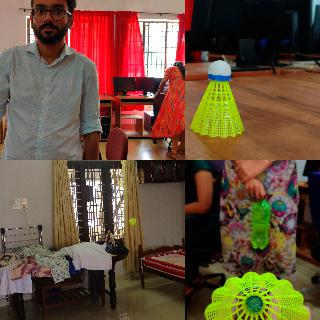shuttlecock: (204, 271, 309, 319), (190, 60, 244, 136), (128, 218, 136, 228)
